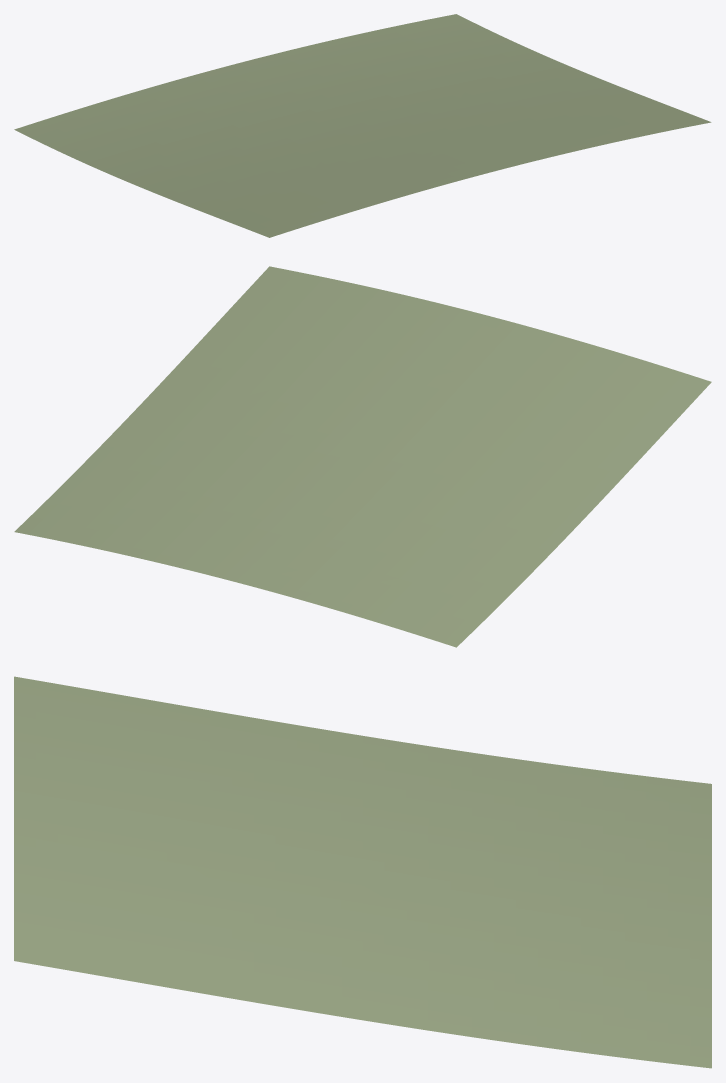
File: valley-6-13.glb
3 renders of one model, top to bottom at view 1: azimuth 30°, elevation 25°; view 2: azimuth 150°, elevation 25°; view 3: azimuth 270°, elevation 25°, orthographic. The views are drawn at different scales.
Visible parts, largest first — view 1: valley-6-13; view 2: valley-6-13; view 3: valley-6-13.
Boxes of the visible parts, x1,y1,x2,y2 form: valley-6-13: (14,14,711,237); valley-6-13: (14,266,711,647); valley-6-13: (14,676,711,1068).
Bounding box in the file's own units: 256 × 50.17 × 256.
